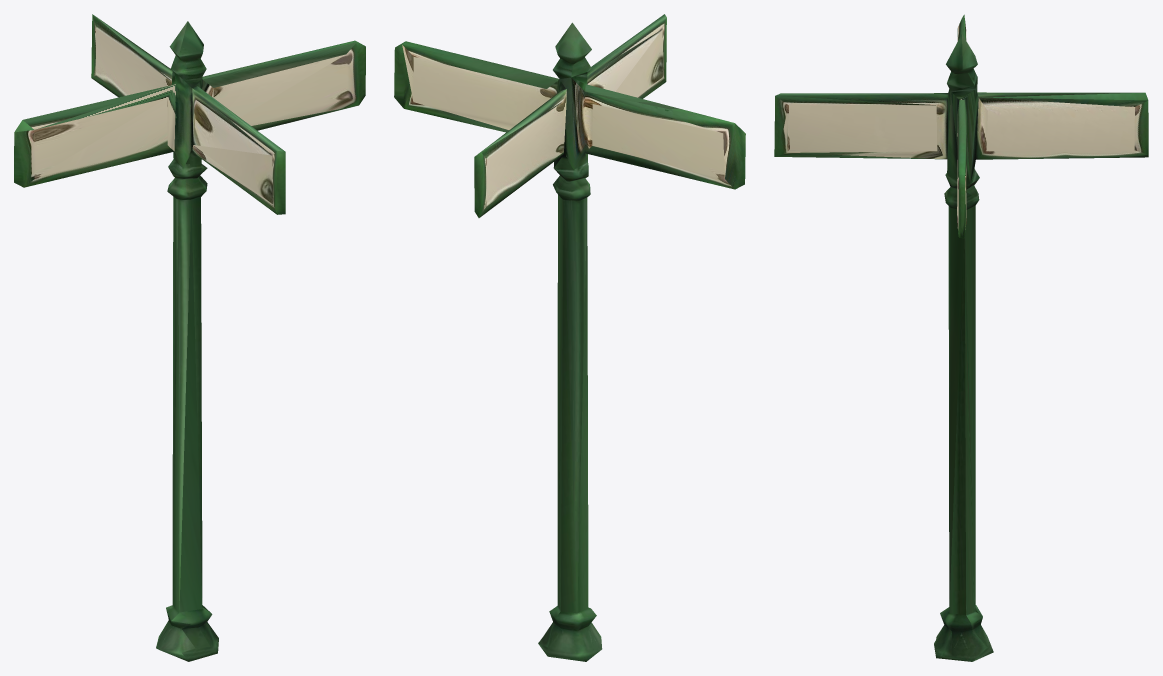
The model's file is street-name-post.glb.
3 views of the same model, side by side, from view 1: azimuth 30°, elevation 25°; view 2: azimuth 150°, elevation 25°; view 3: azimuth 270°, elevation 25° (orthographic).
Parts seen in each view (by area): view 1: SM_street-name-post; view 2: SM_street-name-post; view 3: SM_street-name-post.
Boxes of the visible parts, box(x1,y1,x2,y2) form: SM_street-name-post: box(14, 14, 365, 661); SM_street-name-post: box(394, 14, 745, 661); SM_street-name-post: box(774, 14, 1148, 661).
Size of the model in its own units: 1.88 by 3.2 by 1.76.
1 material, 1 textured.
